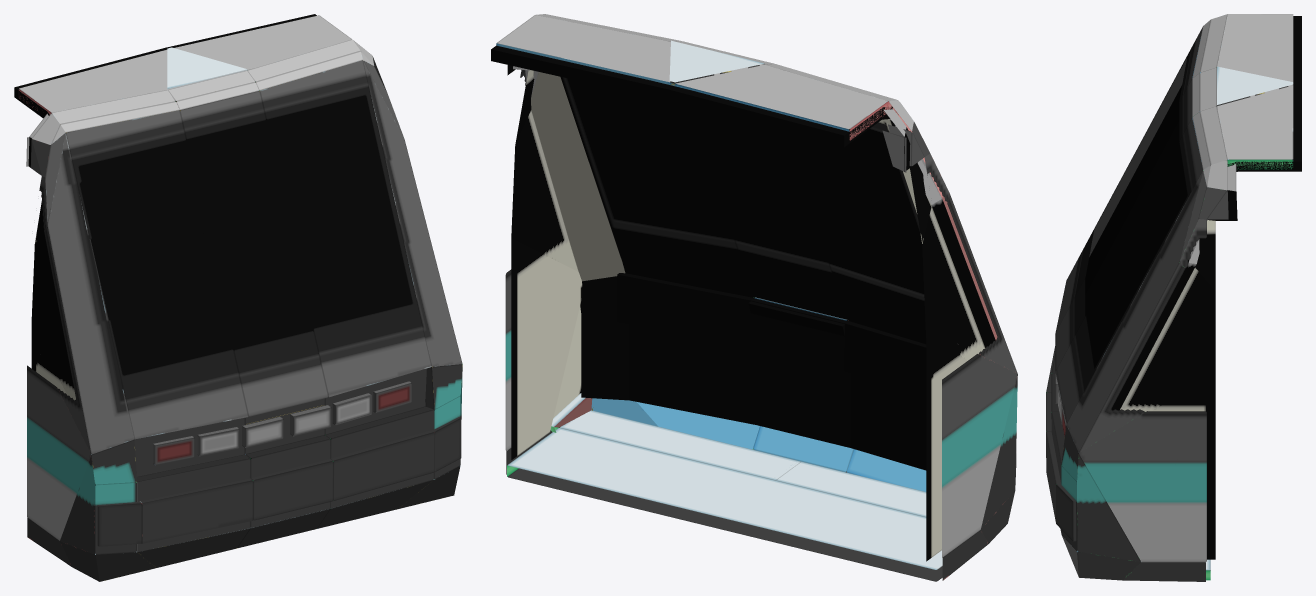
Rendered from mp05_fcav_2.obj.
The picture shows the model from 3 angles, left to right: view 1: azimuth 30°, elevation 25°; view 2: azimuth 150°, elevation 25°; view 3: azimuth 270°, elevation 25°; orthographic projection. The views are drawn at different scales.
Parts seen in each view (by area): view 1: tete, tete_int; view 2: tete_int, tete; view 3: tete, tete_int.
Part boxes in pixels (x1=…): tete: x1=18, y1=15, x2=462, y2=581; tete_int: x1=14, y1=14, x2=434, y2=485; tete_int: x1=491, y1=45, x2=995, y2=561; tete: x1=496, y1=14, x2=1017, y2=581; tete: x1=1046, y1=14, x2=1293, y2=581; tete_int: x1=1085, y1=16, x2=1301, y2=559.
Bounding box in the file's own units: 2.44 × 2.58 × 1.47.
Materials: 2 (2 with a texture image).
